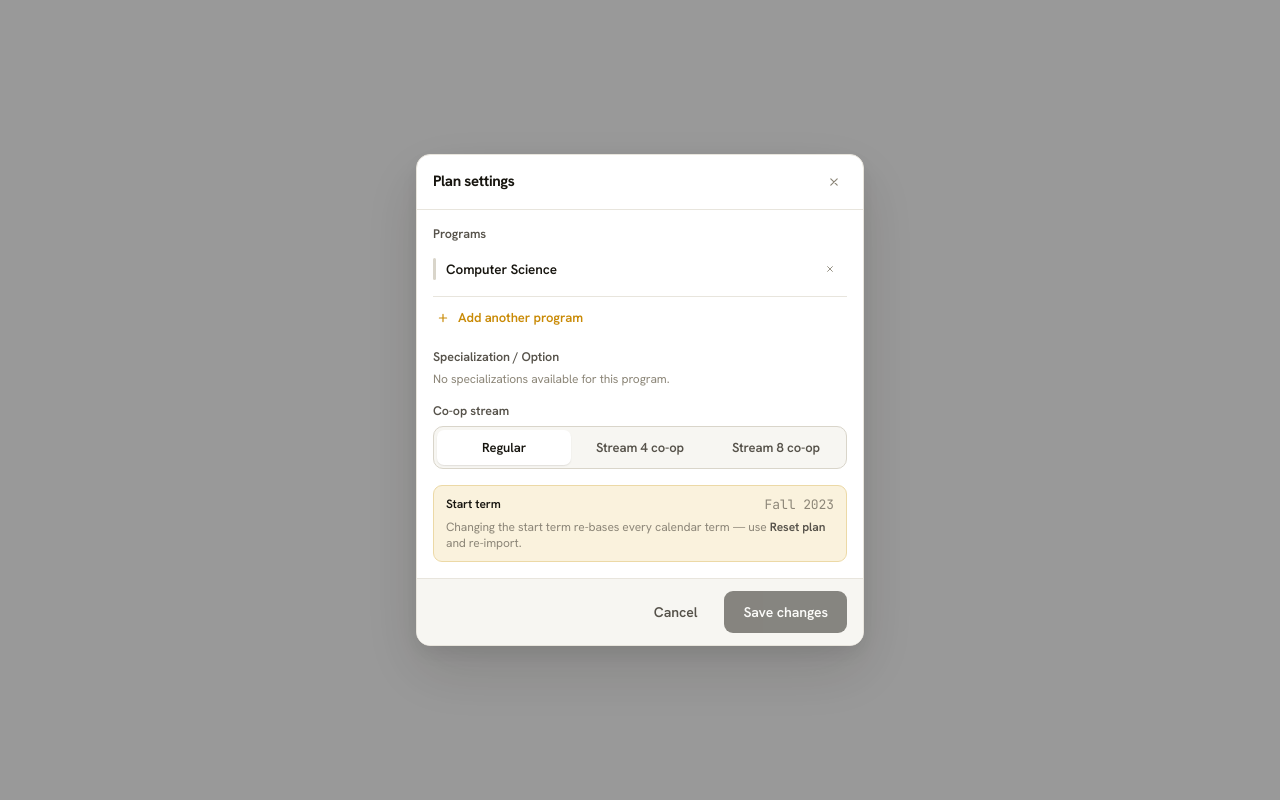
it: PlanSettingsModal — min-one-program guard › disables Save and shows a hint when the last program is removed
The image size is (1280, 800).
Expected: the button "Save changes" is disabled, top-left (724, 592), bottom-right (847, 634)
Note: Remove the only program → empty selection.
Click the button named "remove computer science": (830, 269) top-left (819, 258), bottom-right (841, 280)
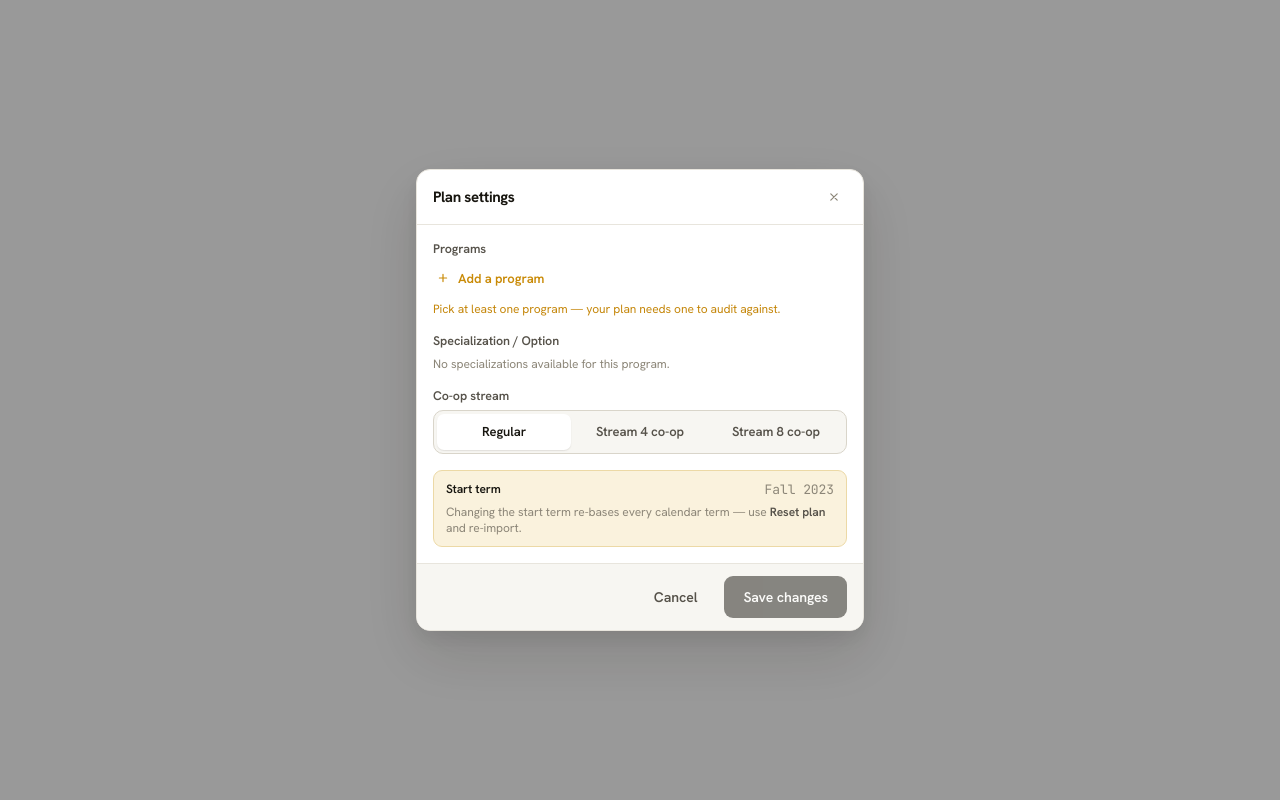
Expected: the button "Save changes" is disabled, top-left (724, 576), bottom-right (847, 618)
Expected: the text "Pick at least one program" is shown, top-left (433, 301), bottom-right (780, 317)
